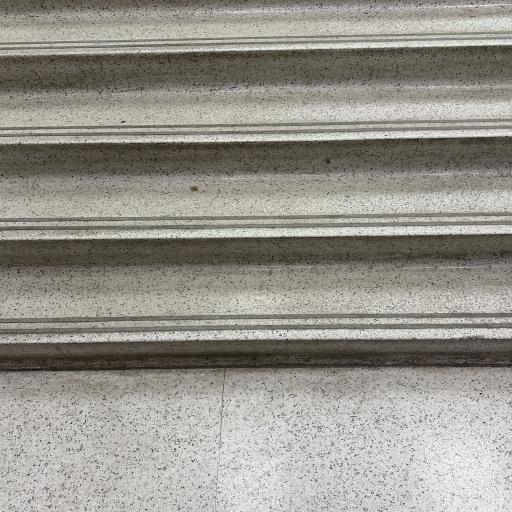Stairs: (0, 2, 512, 368)
